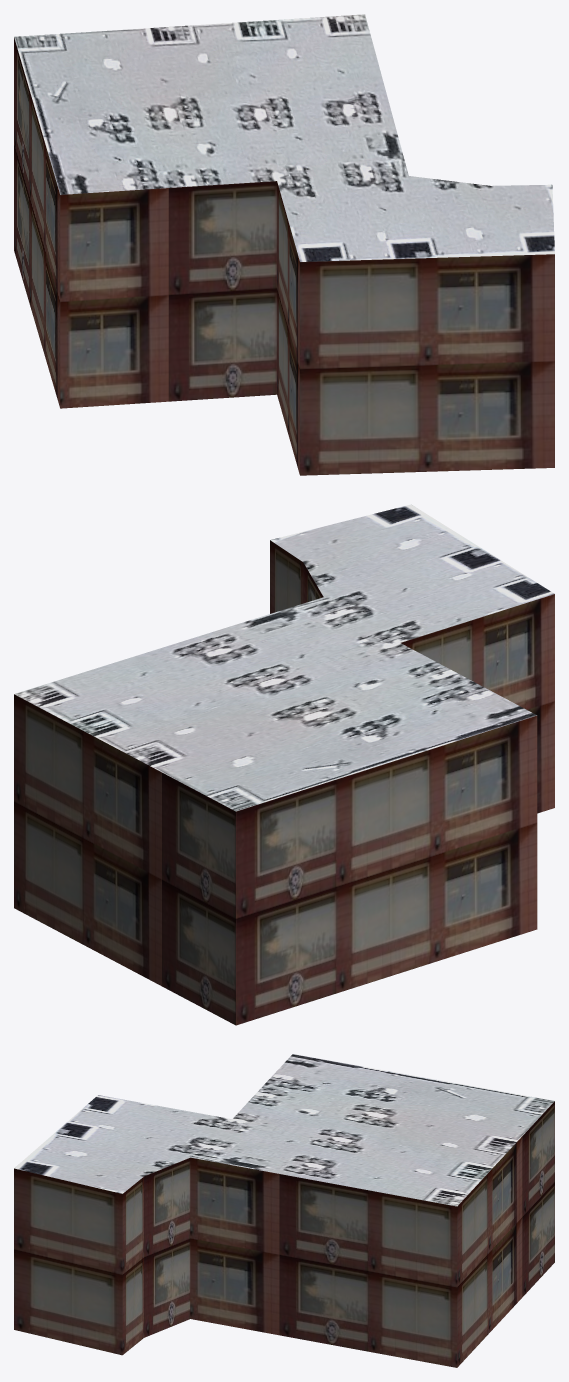
File: ResTex__2670.fbx
The picture shows the model from 3 angles, top to bottom: view 1: azimuth 30°, elevation 25°; view 2: azimuth 150°, elevation 25°; view 3: azimuth 270°, elevation 25°; orthographic projection. The views are drawn at different scales.
Visible parts, largest first — view 1: CityEngineMaterial_13_m, CityEngineMaterial_m; view 2: CityEngineMaterial_13_m, CityEngineMaterial_m; view 3: CityEngineMaterial_13_m, CityEngineMaterial_m.
Boxes of the visible parts, bbox=[...] form: CityEngineMaterial_13_m: bbox=[14, 37, 554, 475]; CityEngineMaterial_m: bbox=[14, 14, 554, 261]; CityEngineMaterial_13_m: bbox=[14, 540, 554, 1025]; CityEngineMaterial_m: bbox=[14, 504, 554, 811]; CityEngineMaterial_13_m: bbox=[14, 1101, 554, 1367]; CityEngineMaterial_m: bbox=[14, 1054, 554, 1206].
Size of the model in its own units: 12.16 by 6 by 18.22.
2 materials, 2 textured.
